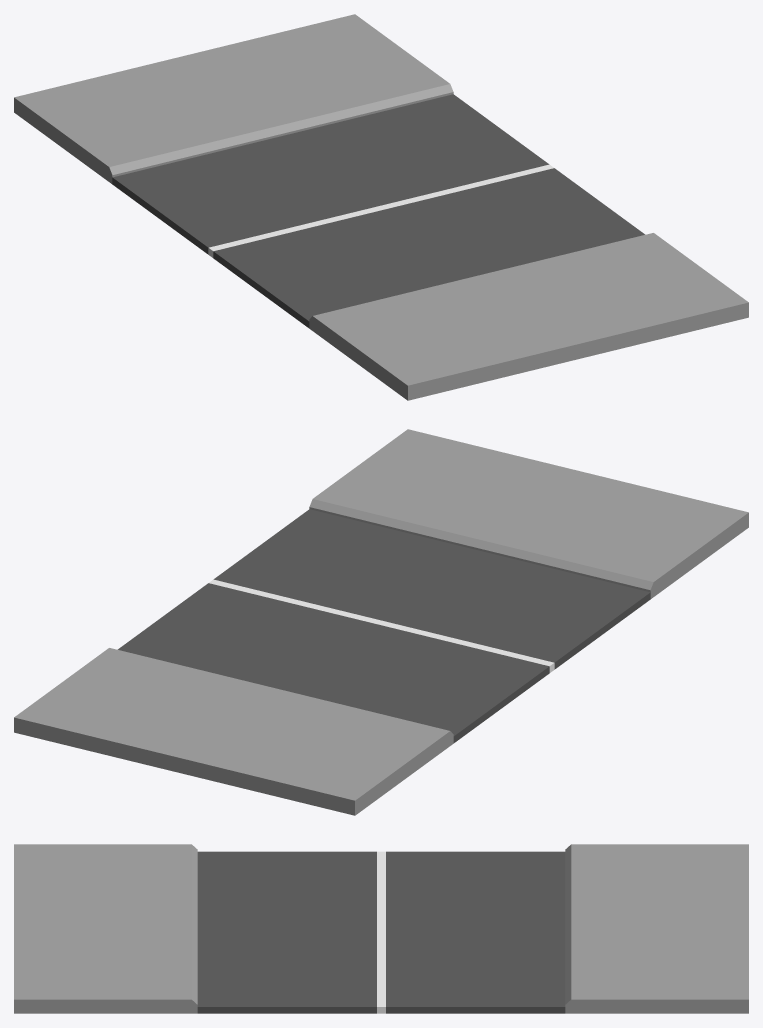
The model's file is roadShort.fbx.
3 renders of one model, top to bottom at view 1: azimuth 30°, elevation 25°; view 2: azimuth 150°, elevation 25°; view 3: azimuth 270°, elevation 25°, orthographic. The views are drawn at different scales.
Parts seen in each view (by area): view 1: RoadShort; view 2: RoadShort; view 3: RoadShort.
Boxes of the visible parts, <box> form: RoadShort: <box>14,14,748,400</box>; RoadShort: <box>14,429,748,815</box>; RoadShort: <box>14,844,748,1013</box>.
Size of the model in its own units: 1000 by 42.29 by 2000.
